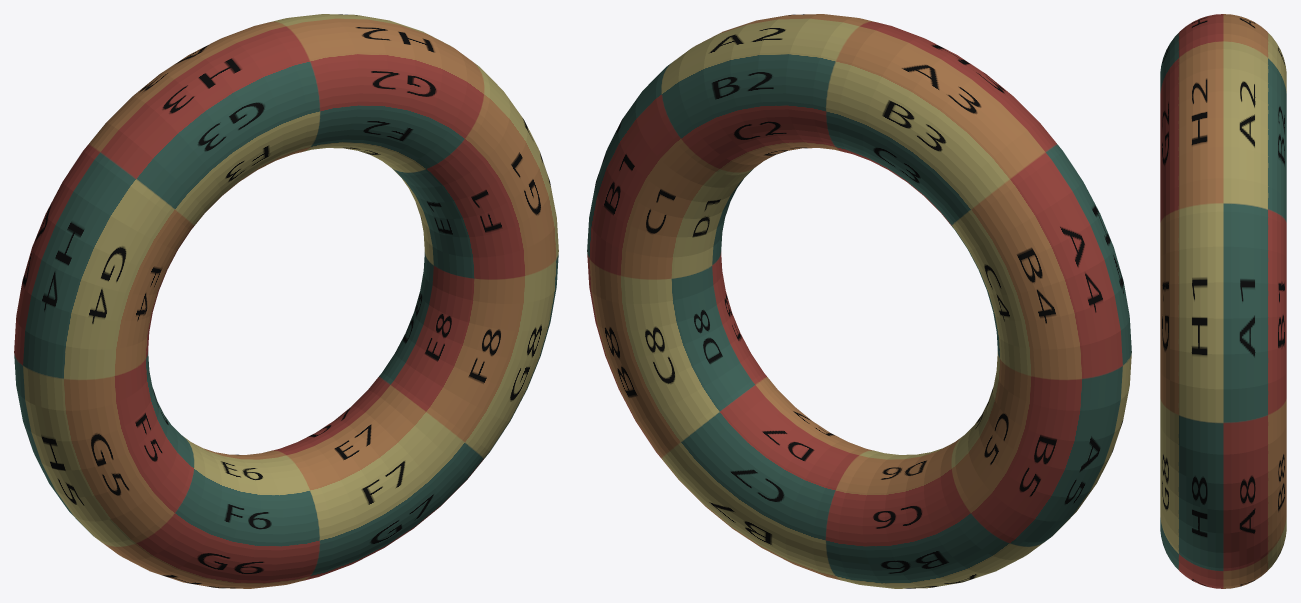
File: texture_torus_R14_r13.glb
The picture shows the model from 3 angles, left to right: view 1: azimuth 30°, elevation 25°; view 2: azimuth 150°, elevation 25°; view 3: azimuth 270°, elevation 25°; orthographic projection. The views are drawn at different scales.
Visible parts, largest first — view 1: world; view 2: world; view 3: world.
Boxes of the visible parts, x1,y1,x2,y2 form: world: [14, 14, 558, 588]; world: [587, 14, 1131, 588]; world: [1160, 14, 1286, 588].
Bounding box in the file's own units: 24.8 × 24.75 × 5.46.
Materials: 1 (1 with a texture image).
